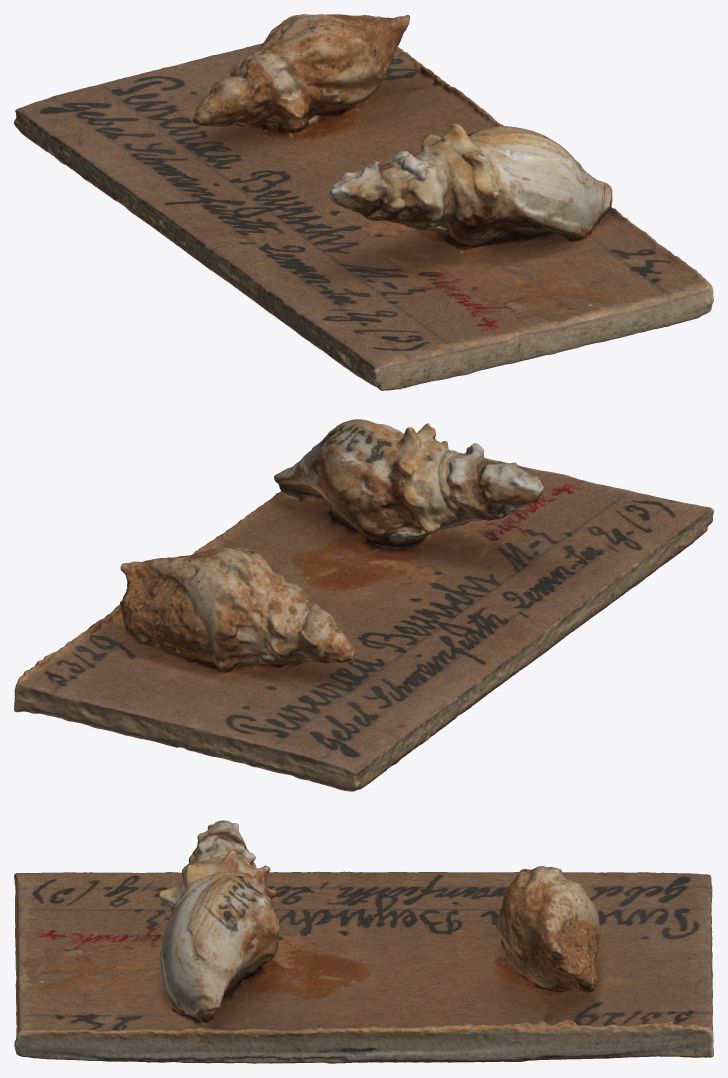
Rendered from EWS0016474.glb.
3 views of the same model, one above another, from view 1: azimuth 30°, elevation 25°; view 2: azimuth 150°, elevation 25°; view 3: azimuth 270°, elevation 25° (orthographic). The views are drawn at different scales.
Parts seen in each view (by area): view 1: input; view 2: input; view 3: input.
Part boxes in pixels (x1,y1,x2,y2): input: [14, 14, 713, 390]; input: [14, 419, 713, 791]; input: [14, 820, 713, 1063].
Size of the model in its own units: 0.0286 by 0.0118 by 0.0517.
1 material, 1 textured.
